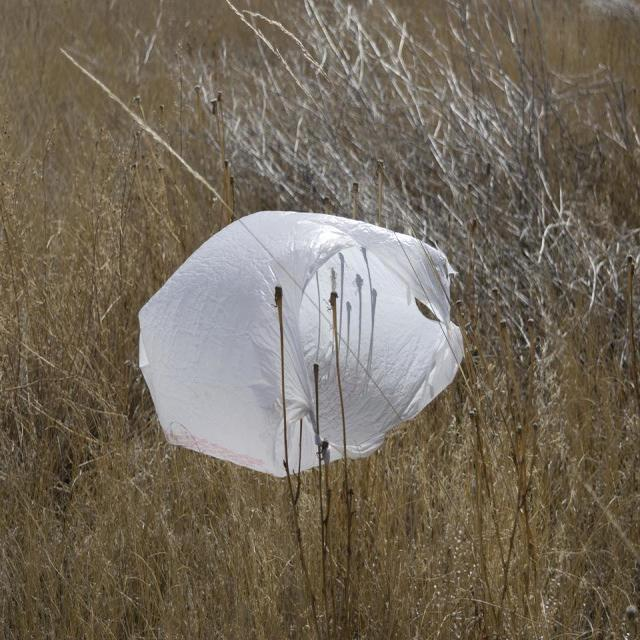plastic: (114, 229, 466, 466)
